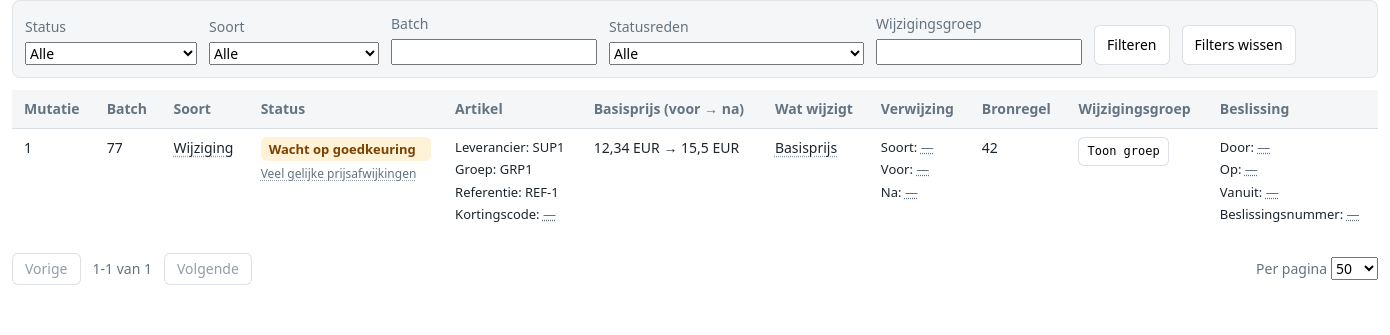
MutationList › T5.7: laat een ongeldig batchnummer niet stil als 0 doorgaan
The width and height of the screenshot is (1390, 335).
Expected: the text "Wacht op goedkeuring" is shown, [261,137,431,161]
In the field labelled "Batch": (494, 52) [391,39,597,65], type "abc"
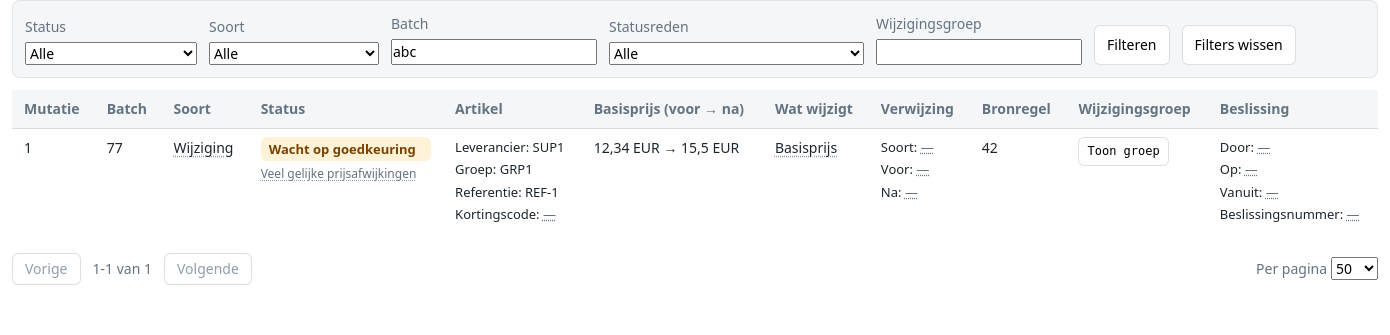
Click the button "Filteren": (1132, 45) [1094,25,1170,65]
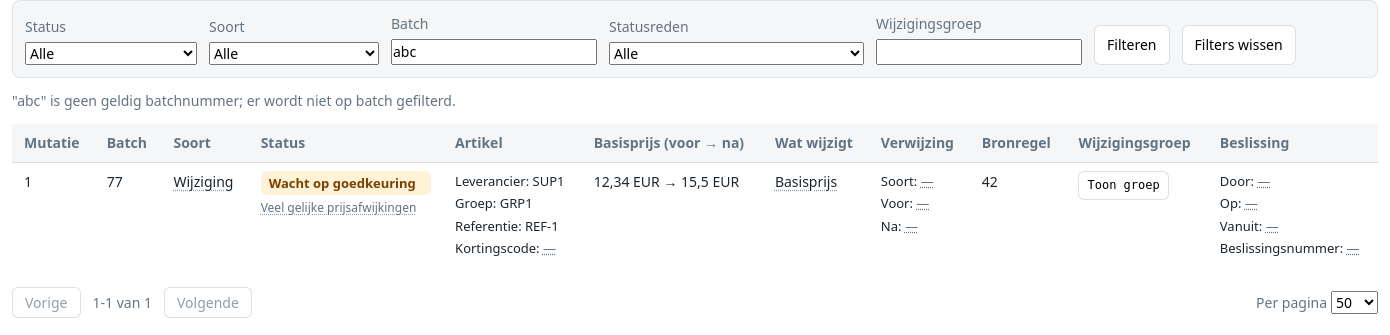
Result: the text "is geen geldig batchnummer" is shown at [41,91,456,110]
